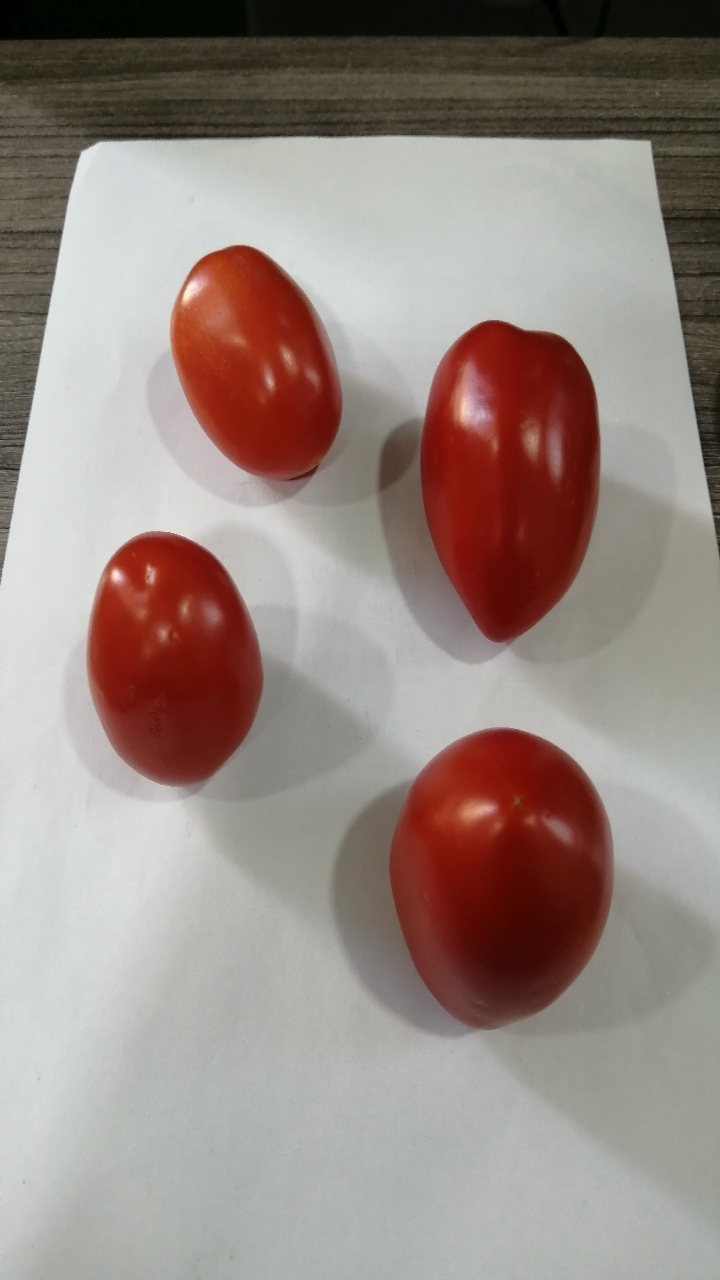tomateRojo: (348, 705, 629, 1045), (394, 297, 615, 660), (61, 508, 280, 806), (148, 214, 357, 495)
